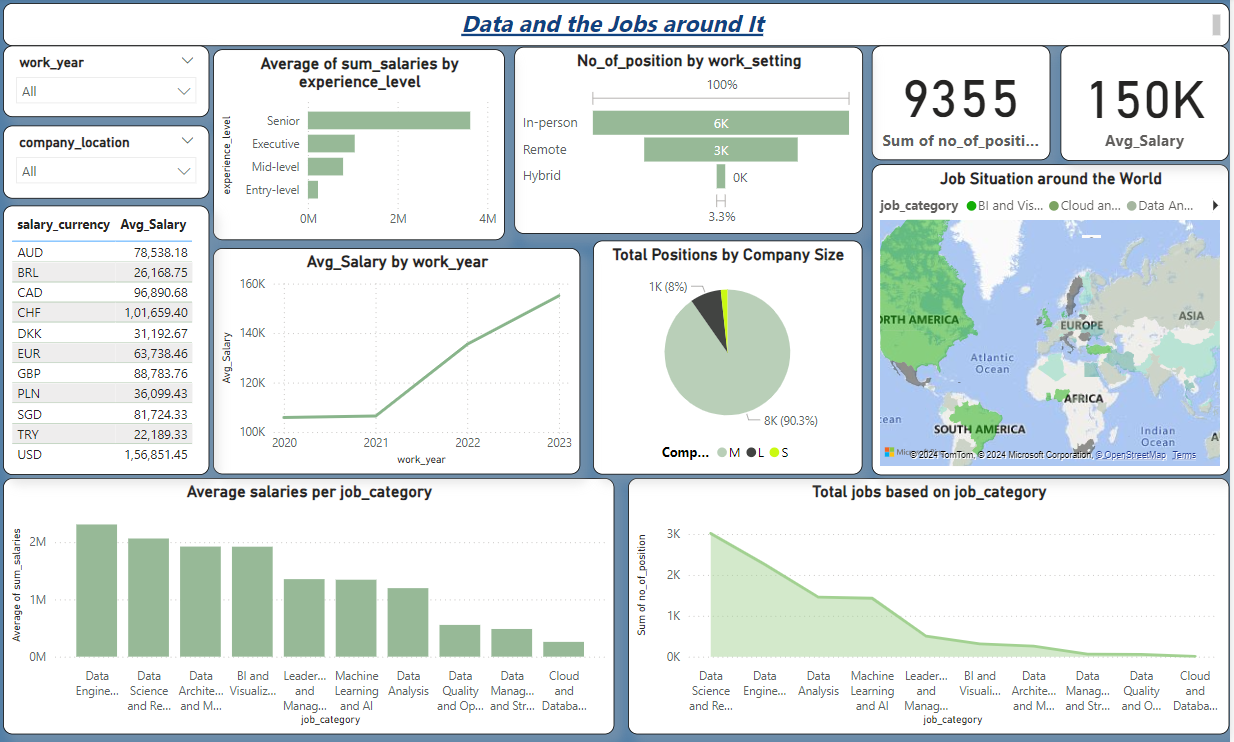

The page's visual inventory and layout, read from the dashboard file:
{"tool":"powerbi","page":{"name":"Data_Jobs","canvas":[1280,780],"ordinal":0},"visuals":[{"type":"textbox","box":[5.2,10.5,1274.3,44.4],"z":0},{"type":"clusteredColumnChart","title":"Average salaries per job_category","fields":{"Y":["Avg(data_jobs.sum_salaries)"],"Category":["data_jobs.job_category"]},"box":[5.2,504.5,635.2,266.6],"z":1000},{"type":"stackedAreaChart","title":"Total jobs based on job_category","fields":{"Y":["Sum(data_jobs.no_of_position)"],"Category":["data_jobs.job_category"]},"box":[654.8,504.5,624.7,266.6],"z":2000},{"type":"slicer","title":"Year","fields":{"Values":["data_jobs.work_year"]},"box":[5.2,54.9,214.3,74.5],"z":3000},{"type":"card","title":"Total Jobs","fields":{"Values":["Sum(data_jobs.no_of_position)"]},"box":[908.3,54.9,185.6,118.9],"z":4000},{"type":"slicer","fields":{"Values":["data_jobs.company_location"]},"box":[5.2,137.2,214.3,75.8],"z":5000},{"type":"funnel","title":"No_of_position by work_setting","fields":{"Category":["data_jobs.work_setting"],"Y":["Sum(data_jobs.no_of_position)"]},"box":[535.9,56.2,362,194.7],"z":6000},{"type":"pieChart","title":"Total Positions by Company Size","fields":{"Category":["data_jobs.company_size"],"Y":["Sum(data_jobs.no_of_position)"]},"box":[618.2,257.5,279.7,243.1],"z":7000},{"type":"filledMap","title":"Job Situation around the World","fields":{"Category":["data_jobs.company_location"],"Series":["data_jobs.job_category"]},"box":[908.3,177.7,371.2,322.8],"z":8000},{"type":"clusteredBarChart","fields":{"Y":["Avg(data_jobs.sum_salaries)"],"Category":["data_jobs.experience_level"]},"box":[223.5,58.8,303.2,198.7],"z":9000},{"type":"card","fields":{"Values":["data_jobs.Avg_Salary"]},"box":[1104.4,54.9,175.1,120.2],"z":10000},{"type":"lineChart","fields":{"Y":["data_jobs.Avg_Salary"],"Category":["data_jobs.work_year"]},"box":[223.5,265.3,381.6,235.3],"z":11000},{"type":"tableEx","fields":{"Values":["data_jobs.salary_currency","data_jobs.Avg_Salary"]},"box":[5.2,220.9,214.3,279.7],"z":12000}]}

Visuals, with their boxes in screenshot pixels (x1, y1, x2, y2), scaled from the page's 1280x780 canvas onto the 1234x742 screenshot:
textbox: [x1=5, y1=10, x2=1233, y2=52]
"Average salaries per job_category" clusteredColumnChart: [x1=5, y1=480, x2=617, y2=734]
"Total jobs based on job_category" stackedAreaChart: [x1=631, y1=480, x2=1233, y2=734]
"Year" slicer: [x1=5, y1=52, x2=212, y2=123]
"Total Jobs" card: [x1=876, y1=52, x2=1055, y2=165]
slicer - data_jobs.company_location: [x1=5, y1=131, x2=212, y2=203]
"No_of_position by work_setting" funnel: [x1=517, y1=53, x2=866, y2=239]
"Total Positions by Company Size" pieChart: [x1=596, y1=245, x2=866, y2=476]
"Job Situation around the World" filledMap: [x1=876, y1=169, x2=1233, y2=476]
clusteredBarChart - Avg(data_jobs.sum_salaries) x data_jobs.experience_level: [x1=215, y1=56, x2=508, y2=245]
card - data_jobs.Avg_Salary: [x1=1065, y1=52, x2=1233, y2=167]
lineChart - data_jobs.Avg_Salary x data_jobs.work_year: [x1=215, y1=252, x2=583, y2=476]
tableEx - data_jobs.salary_currency x data_jobs.Avg_Salary: [x1=5, y1=210, x2=212, y2=476]
